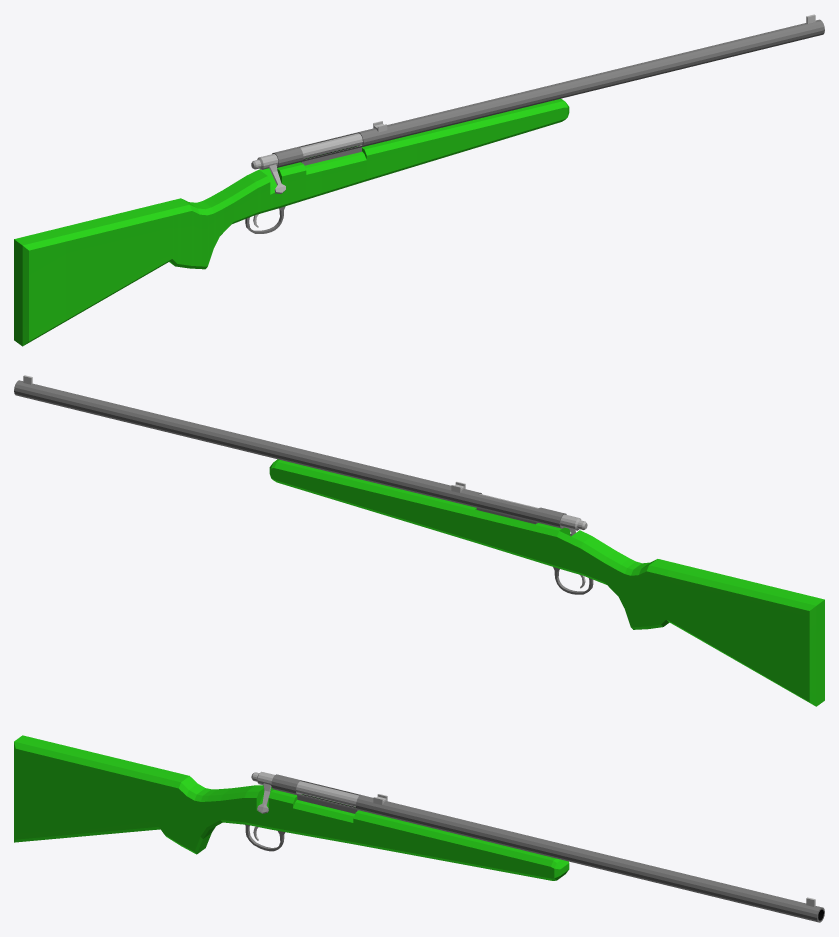
3 views of the same model, one above another, from view 1: azimuth 30°, elevation 25°; view 2: azimuth 150°, elevation 25°; view 3: azimuth 330°, elevation 25° (orthographic).
Parts seen in each view (by area): view 1: Cube, Cylinder, Cylinder.001; view 2: Cube, Cylinder; view 3: Cube, Cylinder, Cylinder.001.
Boxes of the visible parts, left/top/right/bottom form: Cube: left=14, top=98, right=569, bottom=346; Cylinder: left=272, top=19, right=824, bottom=167; Cylinder.001: left=251, top=133, right=362, bottom=193; Cube: left=269, top=459, right=824, bottom=706; Cylinder: left=14, top=380, right=566, bottom=528; Cube: left=14, top=735, right=569, bottom=880; Cylinder: left=271, top=774, right=824, bottom=922; Cylinder.001: left=251, top=771, right=359, bottom=813.
Bounding box in the file's own units: 955 × 152 × 35.09.
